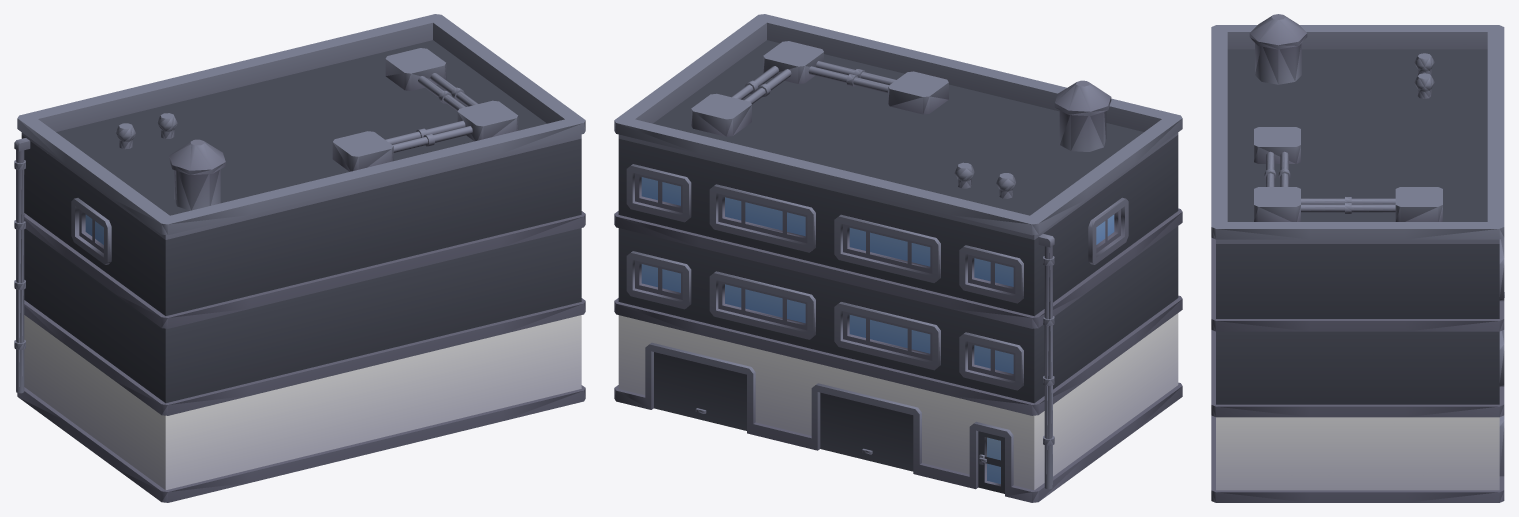
File: industrial_a.glb
The picture shows the model from 3 angles, left to right: view 1: azimuth 30°, elevation 25°; view 2: azimuth 150°, elevation 25°; view 3: azimuth 270°, elevation 25°; orthographic projection.
Parts seen in each view (by area): view 1: building-a; view 2: building-a; view 3: building-a.
Part boxes in pixels (x1=…): building-a: x1=14, y1=14, x2=585, y2=502; building-a: x1=614, y1=14, x2=1182, y2=502; building-a: x1=1211, y1=14, x2=1504, y2=502.
Size of the model in its own units: 12.76 by 9 by 7.6.
2 materials, 2 textured.
